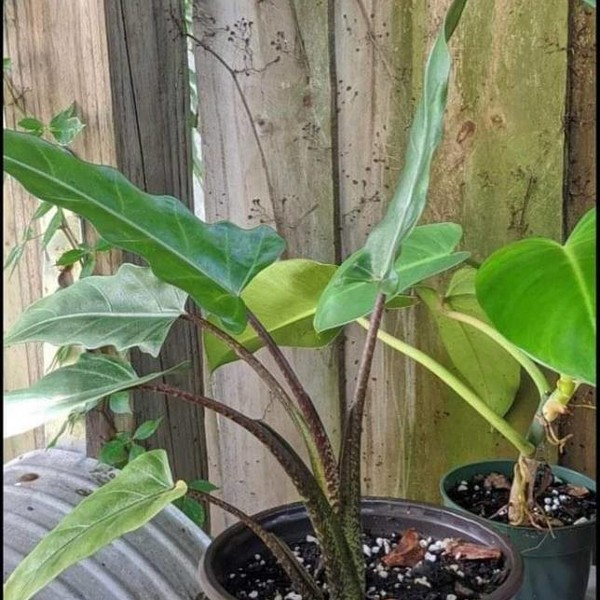obstacle: (9, 24, 523, 589), (473, 192, 591, 592)
